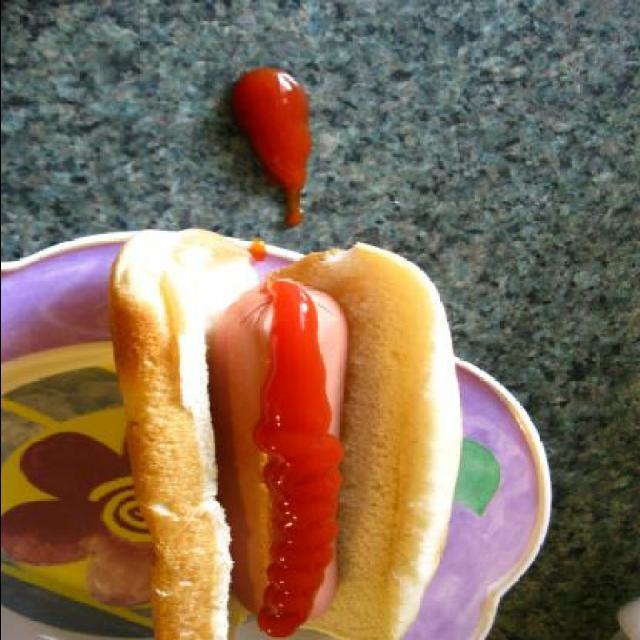Sandwich: (103, 224, 465, 638)
